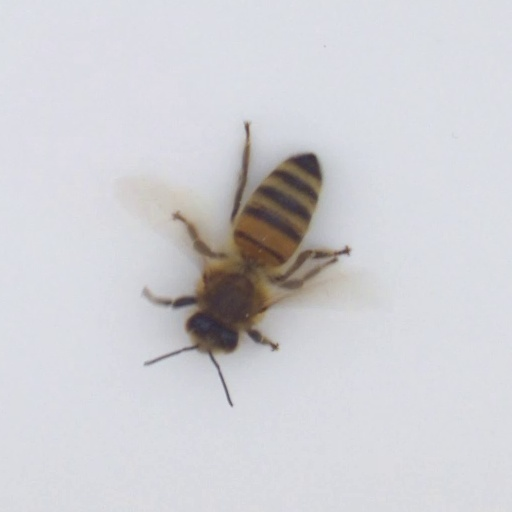Bee: (174, 144, 328, 361)
Thorax: (196, 268, 264, 328)
